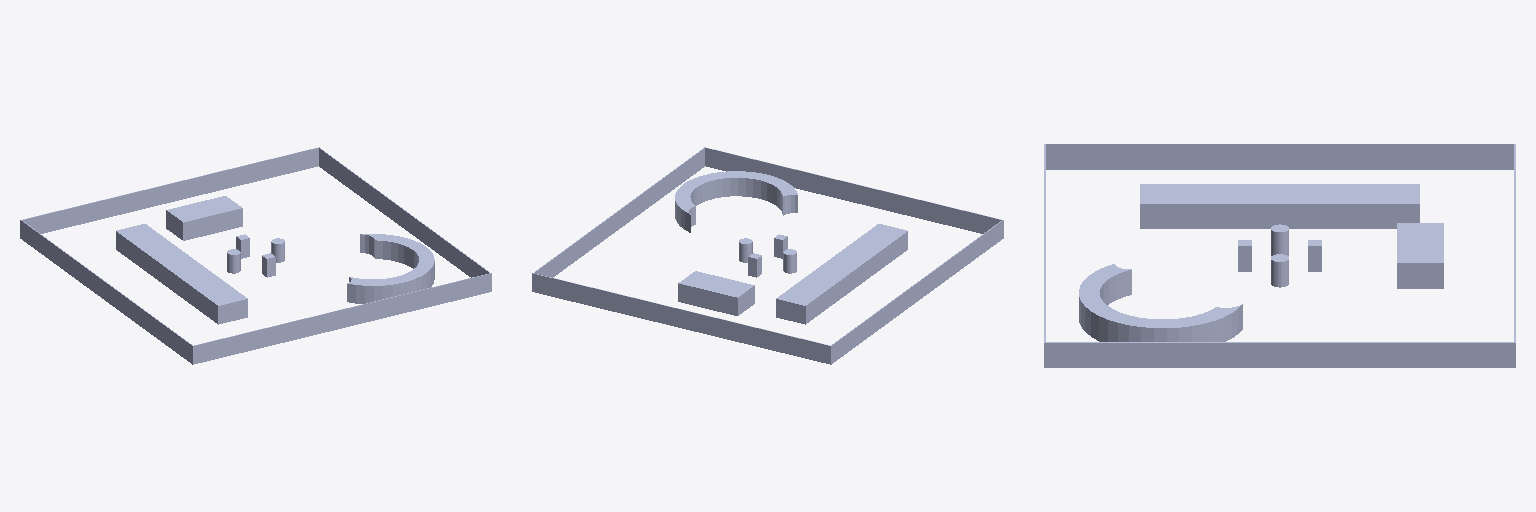
URDF robot description (map2):
<?xml version="1.0" encoding="utf-8"?>
<!-- This URDF was automatically created by SolidWorks to URDF Exporter! Originally created by Stephen Brawner (brawner@gmail.com) 
     Commit Version: 1.6.0-4-g7f85cfe  Build Version: 1.6.7995.38578
     For more information, please see http://wiki.ros.org/sw_urdf_exporter -->
<robot
  name="map2">
  <link
    name="base_link">
    <inertial>
      <origin
        xyz="-0.571371500498184 -0.153045229593759 0.300000000000001"
        rpy="0 0 0" />
      <mass
        value="7310.32338840668" />
      <inertia
        ixx="24726.1398254105"
        ixy="-796.189366428791"
        ixz="-1.538717961107E-12"
        iyy="14307.305559493"
        iyz="-1.23404227494565E-12"
        izz="38594.825981599" />
    </inertial>
    <visual>
      <origin
        xyz="0 0 0"
        rpy="0 0 0" />
      <geometry>
        <mesh
          filename="package://map2/meshes/base_link.STL" />
      </geometry>
      <material
        name="">
        <color
          rgba="0.792156862745098 0.819607843137255 0.933333333333333 1" />
      </material>
    </visual>
  </link>
</robot>

--- What the picture shows (computed from the rendered views, not written in the file) ---
Views: 3 orthographic renders of the robot side by side, from view 1: azimuth 30°, elevation 25°; view 2: azimuth 150°, elevation 25°; view 3: azimuth 270°, elevation 25°.
Model map2 with 1 links and 0 joints (none), rooted at base_link, posed all joints at 0.
Links seen in each view (by area): view 1: base_link; view 2: base_link; view 3: base_link.
Boxes of the visible links, x1,y1,x2,y2 form: base_link: [20, 147, 491, 364]; base_link: [532, 147, 1003, 364]; base_link: [1044, 144, 1515, 367].
Size in the robot's own frame: 10.06 by 10.06 by 0.6 metres.
Meshes: 1 distinct files referenced, 1 mesh visuals loaded (1 binary STL).
